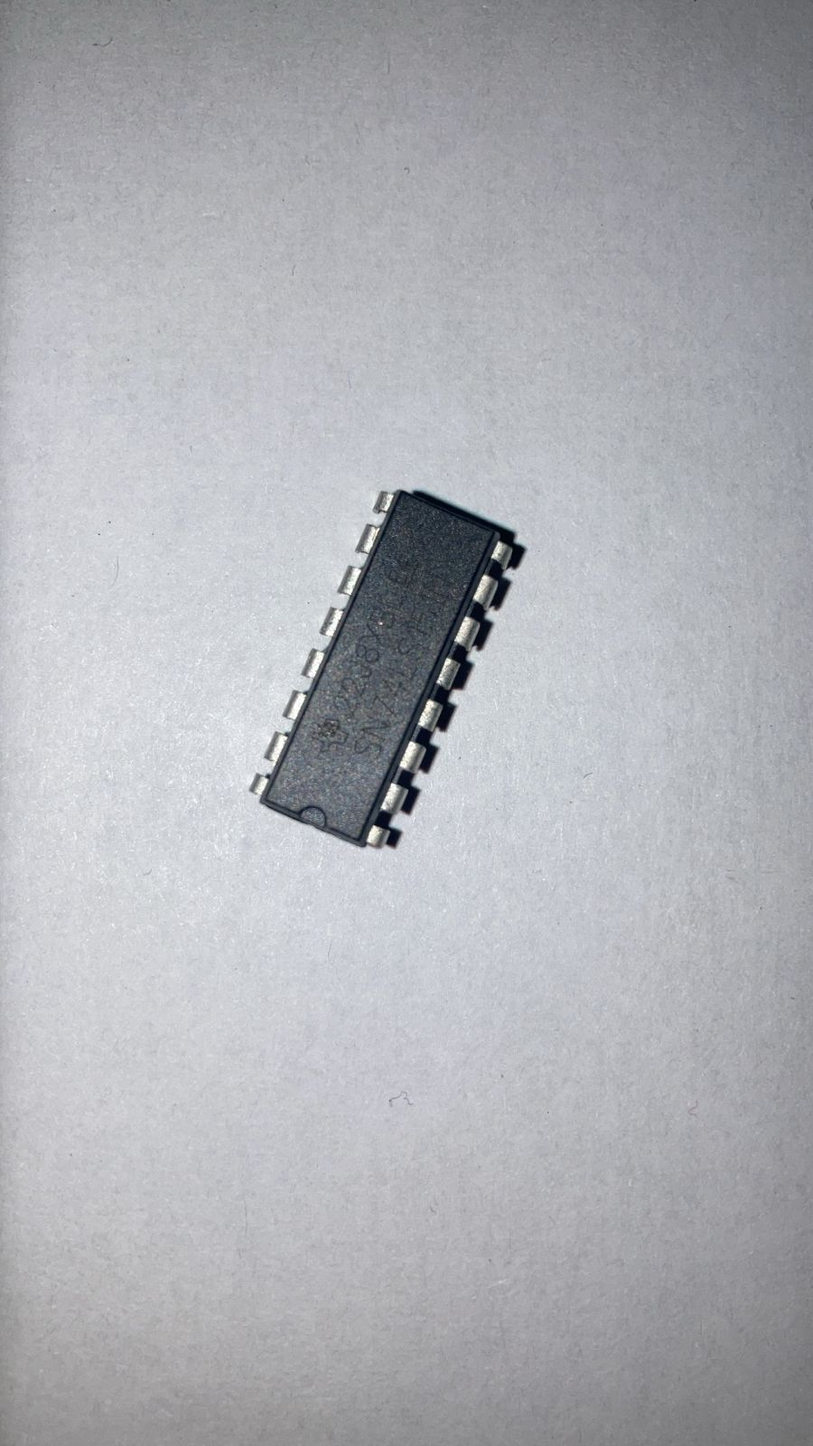IC: (241, 481, 528, 862)
notch: (295, 802, 330, 834)
